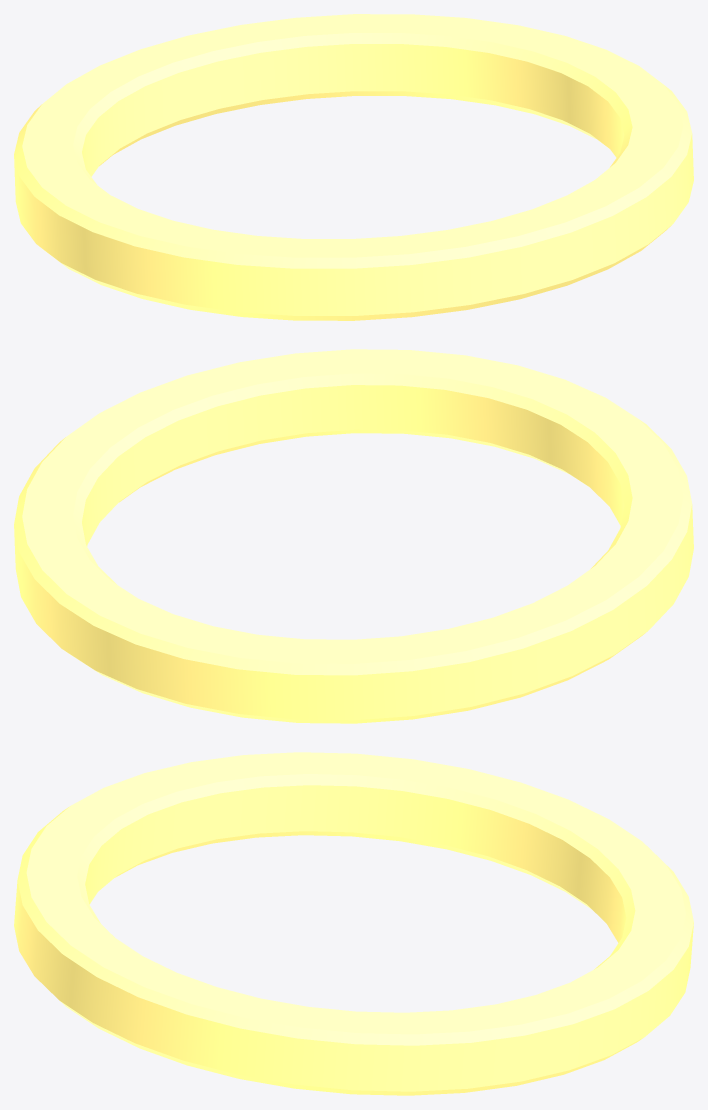
File: Finish.dae
3 renders of one model, top to bottom at view 1: azimuth 30°, elevation 25°; view 2: azimuth 150°, elevation 25°; view 3: azimuth 270°, elevation 25°, orthographic.
Visible parts, largest first — view 1: Объект_Труба; view 2: Объект_Труба; view 3: Объект_Труба.
Boxes of the visible parts, <box> form: Объект_Труба: <box>14,14,693,320</box>; Объект_Труба: <box>14,349,693,723</box>; Объект_Труба: <box>14,752,693,1095</box>.
Size of the model in its own units: 400 by 66.58 by 401.
